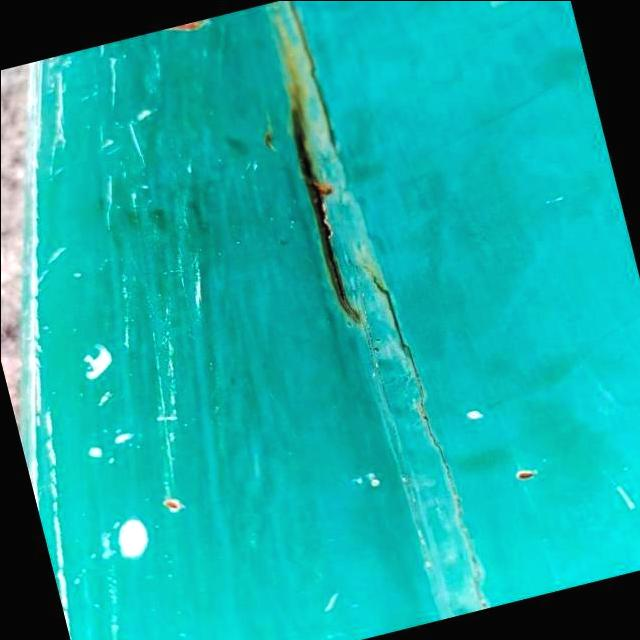defect: (359, 261, 493, 608), (283, 100, 364, 326)
